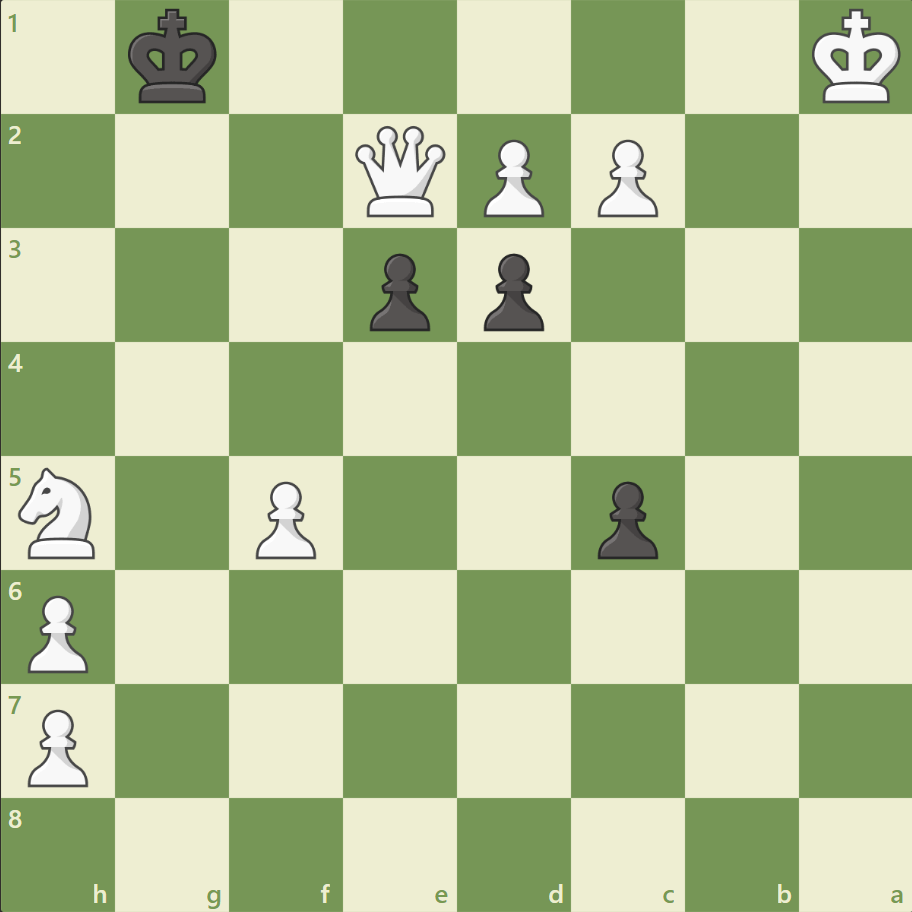K: (806, 4, 906, 112)
N: (11, 461, 108, 564)
P: (20, 700, 95, 791), (20, 586, 95, 677), (247, 473, 322, 564), (474, 132, 549, 223), (588, 132, 662, 223)
Q: (351, 122, 450, 222)
k: (124, 4, 224, 112)
p: (474, 246, 549, 337), (588, 473, 662, 564), (361, 246, 435, 337)
